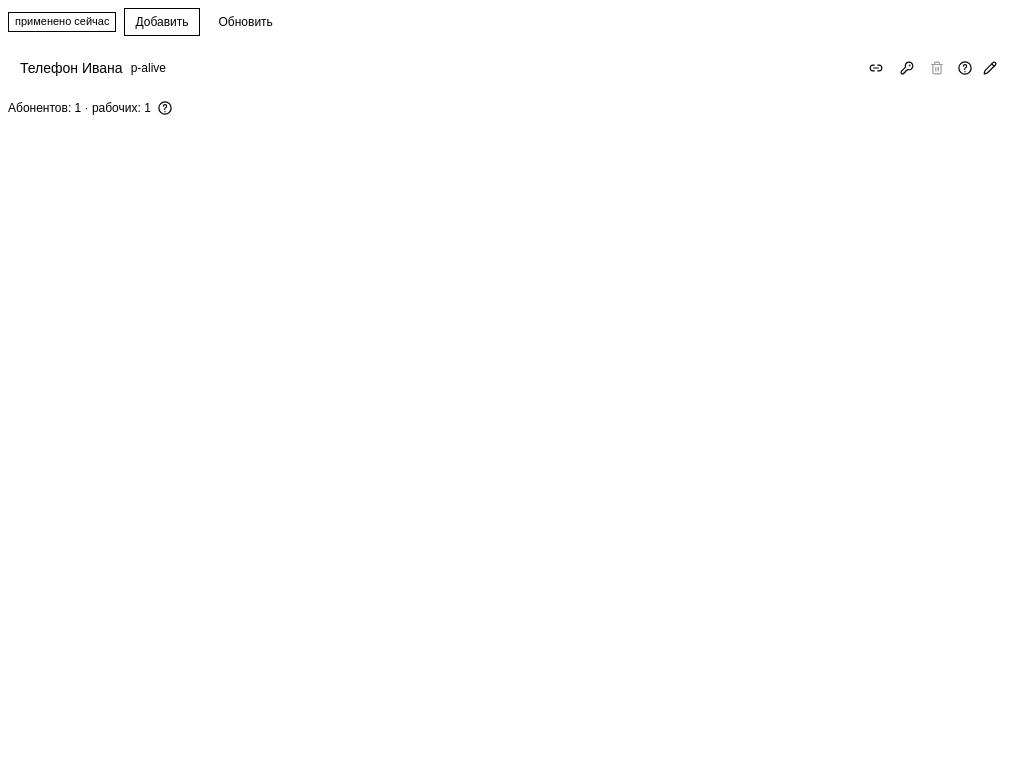
Scenario: добавление › успех со сгенерированным паролем даёт TS-06
Expected: the text "Телефон Ивана" is shown, left=20, top=60, right=123, bottom=76
Click the button "Добавить" at (162, 22), box left=124, top=8, right=200, bottom=36
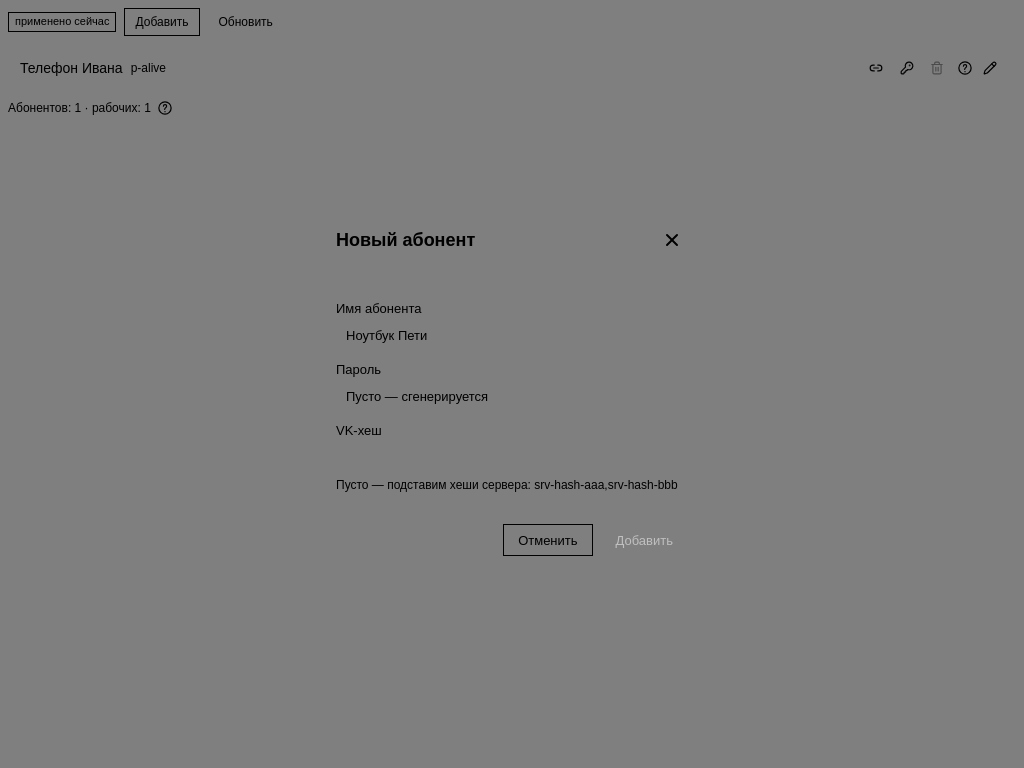
Type "Ноутбук" into the field labelled "Имя абонента" at (512, 336), box left=336, top=320, right=688, bottom=352
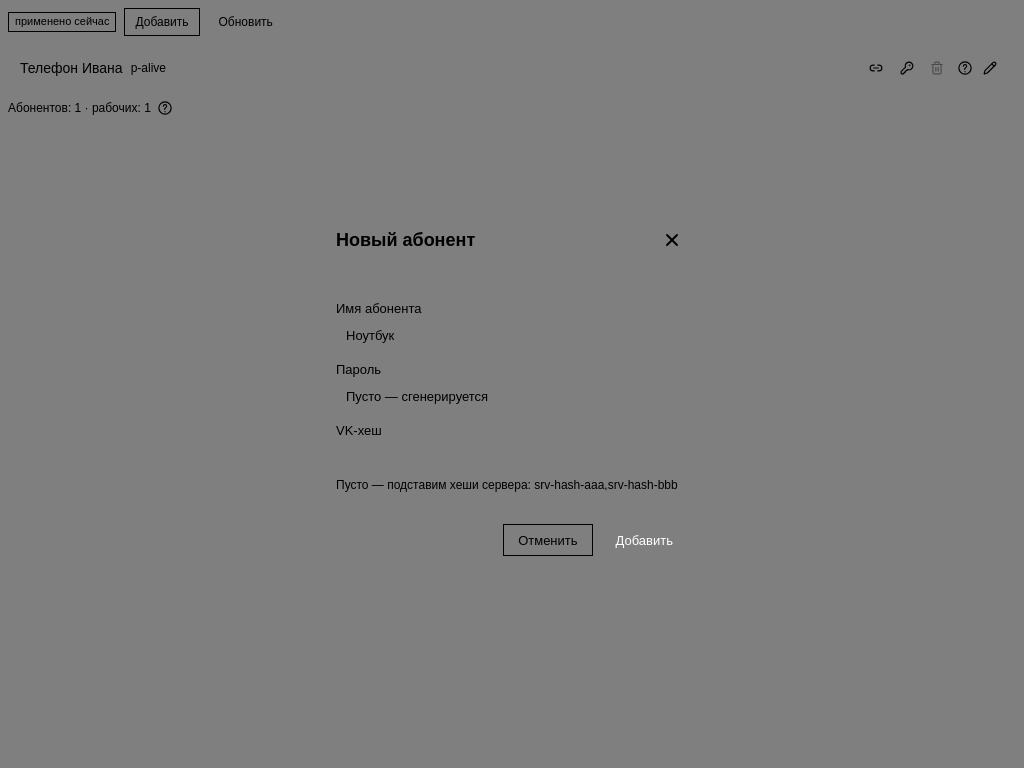
Click the button "Добавить" at (644, 540), box left=600, top=524, right=688, bottom=556
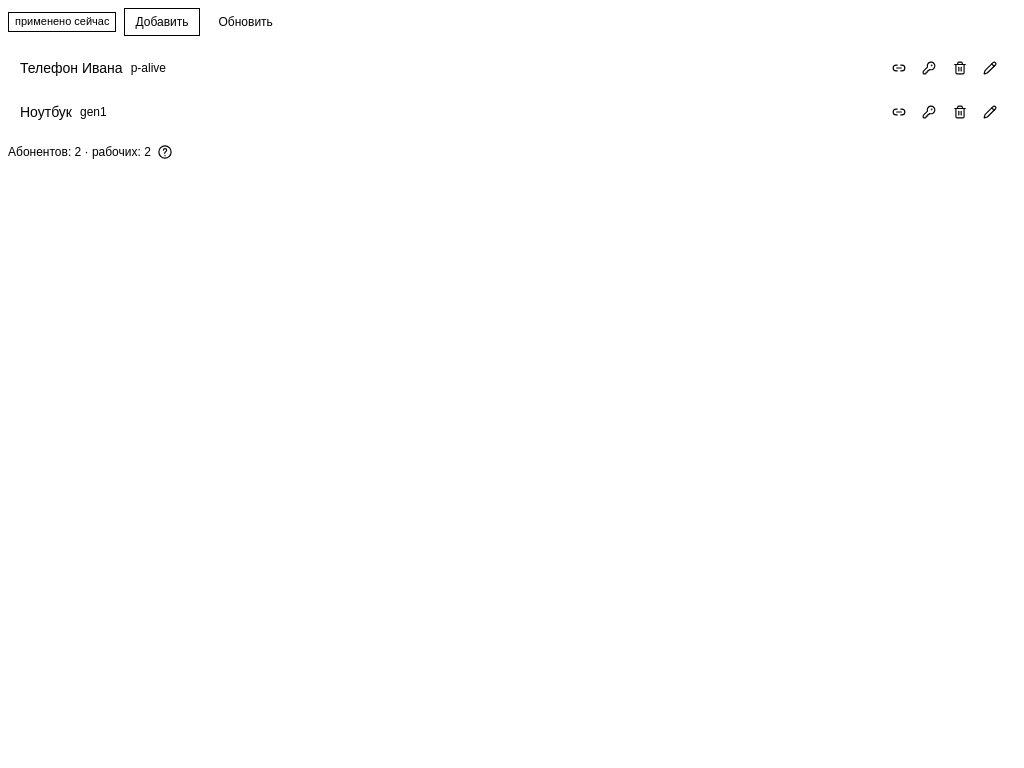
Expected: the text "Ноутбук" is shown, left=20, top=104, right=72, bottom=120
